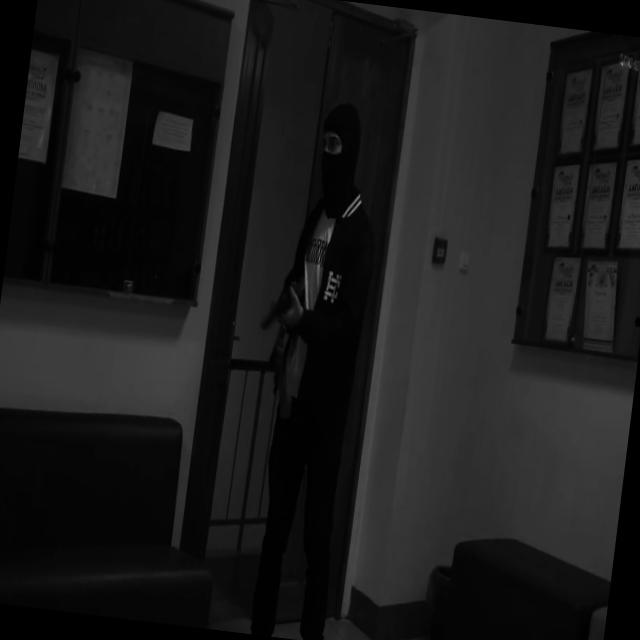gun: (256, 266, 310, 356)
person with a gun: (222, 95, 393, 640)
